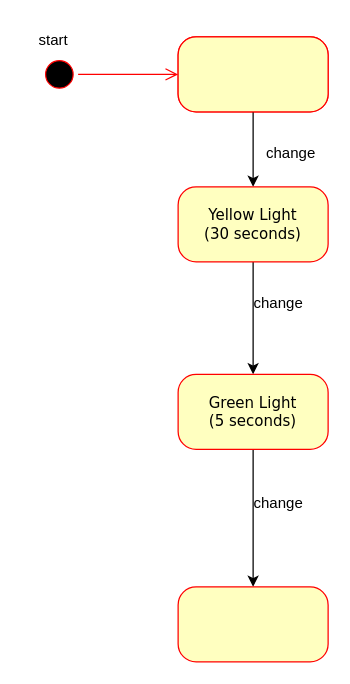
This 350x684 diagram has some shape labels left out. The centre of each missing label's shape, as x and y in pixels:
"Red Light (30 seconds)" goes at (x=252, y=74).
"Red Light (5 seconds)" goes at (x=252, y=624).
